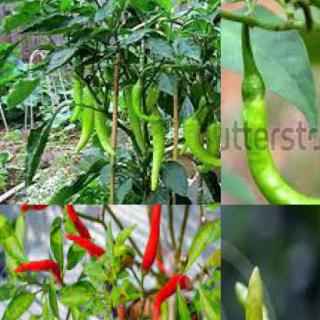green_chilli: (242, 73, 319, 204), (175, 114, 220, 168), (123, 82, 147, 160), (150, 109, 168, 193), (130, 80, 165, 123), (244, 264, 271, 319), (74, 92, 97, 154), (93, 110, 119, 157), (198, 120, 220, 172), (57, 286, 97, 303), (71, 76, 84, 128), (69, 306, 96, 319)
